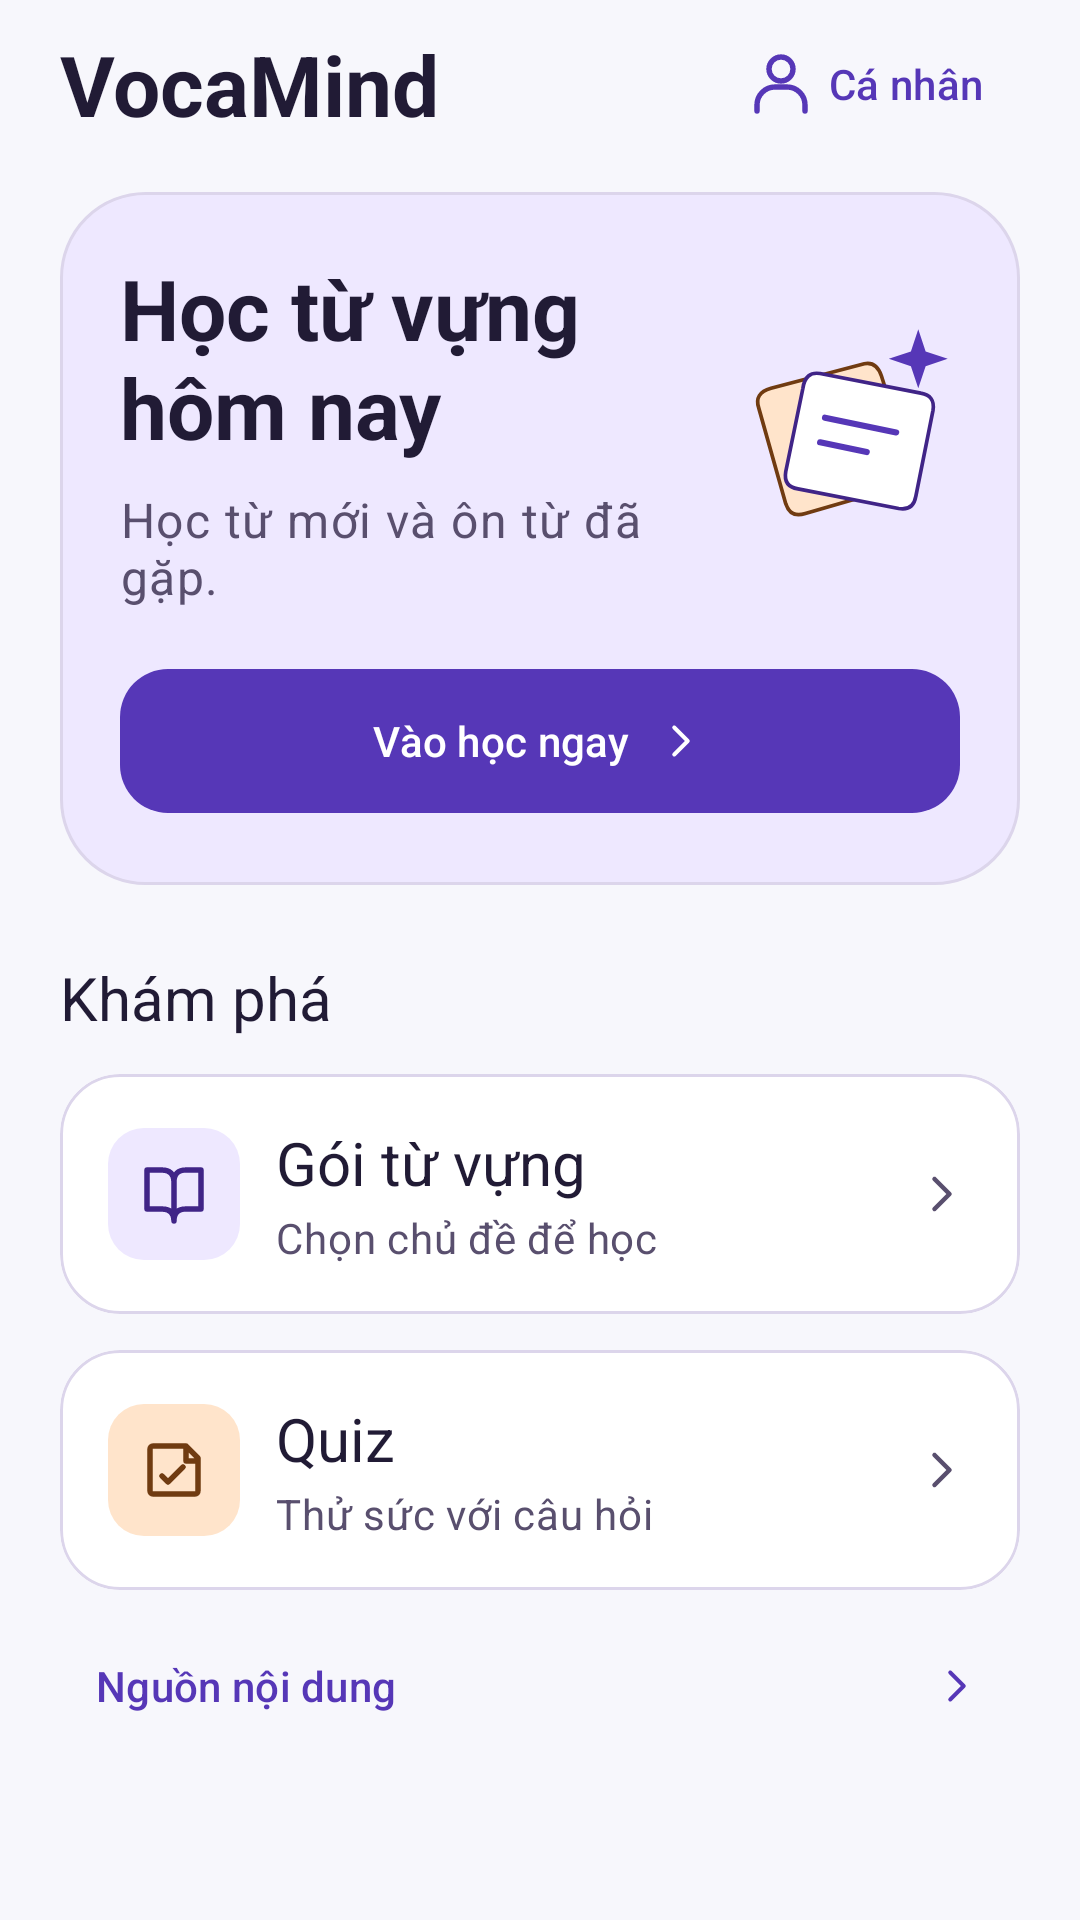

Point at icon controls on the screen. Image size 1080w x 1920h, points as (x,y).
ui hero cards: (851,423)
ui next: (942,1194), (942,1470)
ui words: (174,1194)
